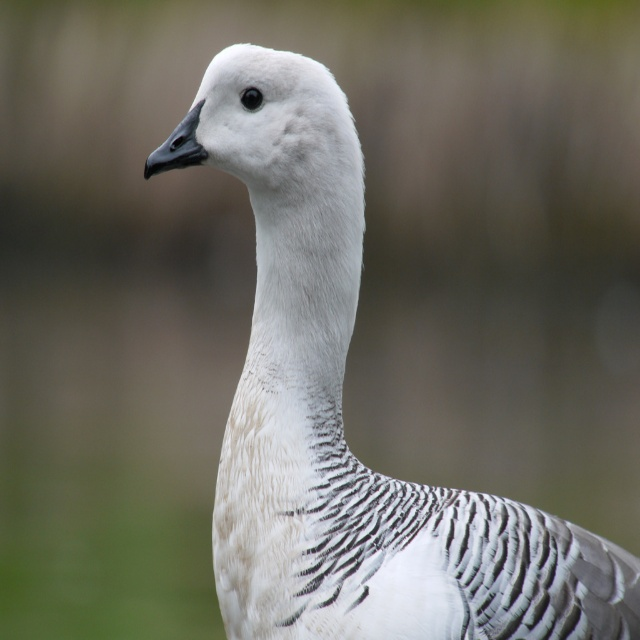Goose: (142, 38, 640, 639)
